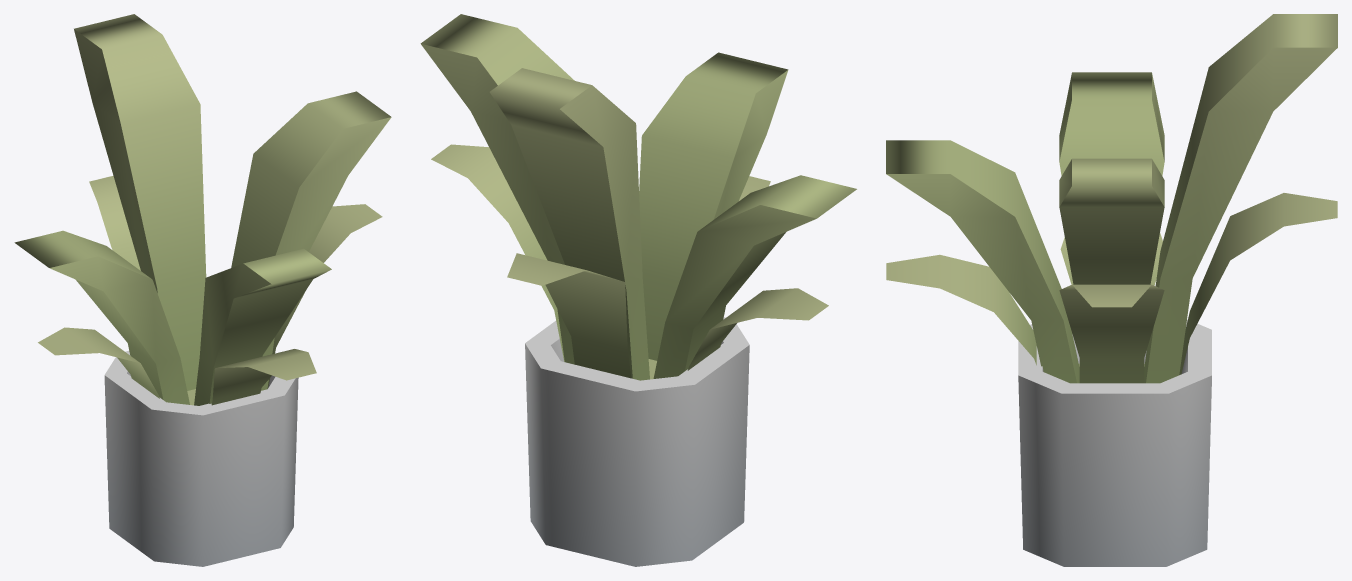
The model's file is plant-small-square.glb.
The picture shows the model from 3 angles, left to right: view 1: azimuth 30°, elevation 25°; view 2: azimuth 150°, elevation 25°; view 3: azimuth 270°, elevation 25°; orthographic projection. The views are drawn at different scales.
Parts seen in each view (by area): view 1: plant-small-square; view 2: plant-small-square; view 3: plant-small-square.
Part boxes in pixels (bbox=[...]): plant-small-square: bbox=[14, 14, 391, 566]; plant-small-square: bbox=[420, 14, 856, 566]; plant-small-square: bbox=[886, 14, 1337, 566].
Bounding box in the file's own units: 0.525 × 0.6375 × 0.525.
